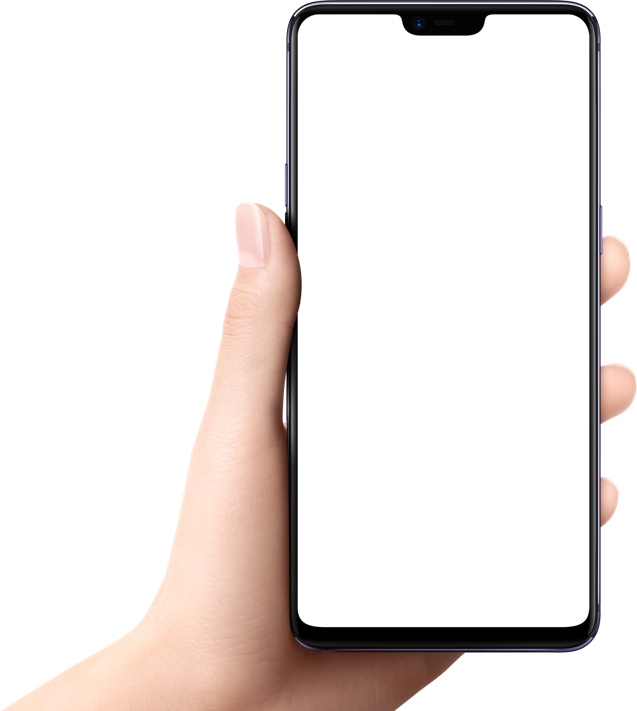phone: (127, 1, 637, 689)
